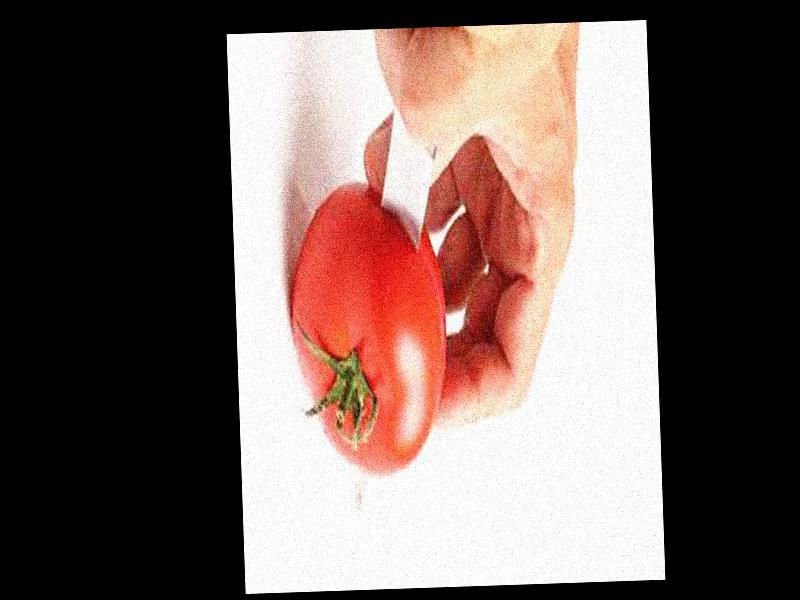Tomato: (287, 180, 451, 473)
